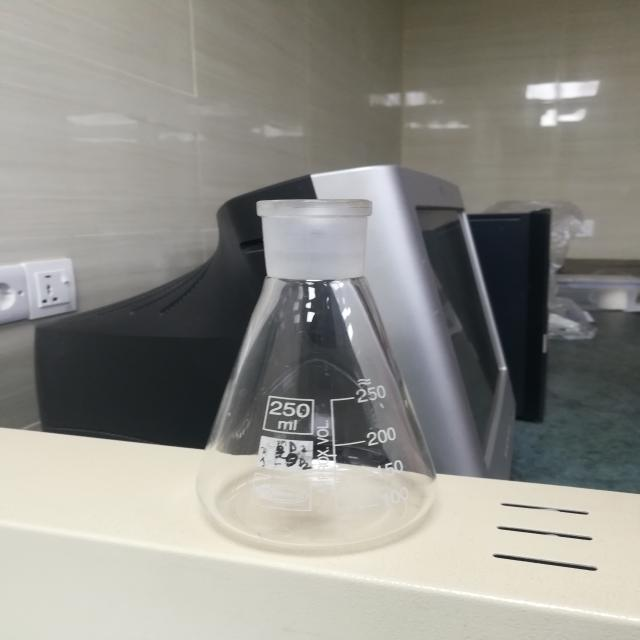Conical_Flask: (164, 163, 473, 560)
